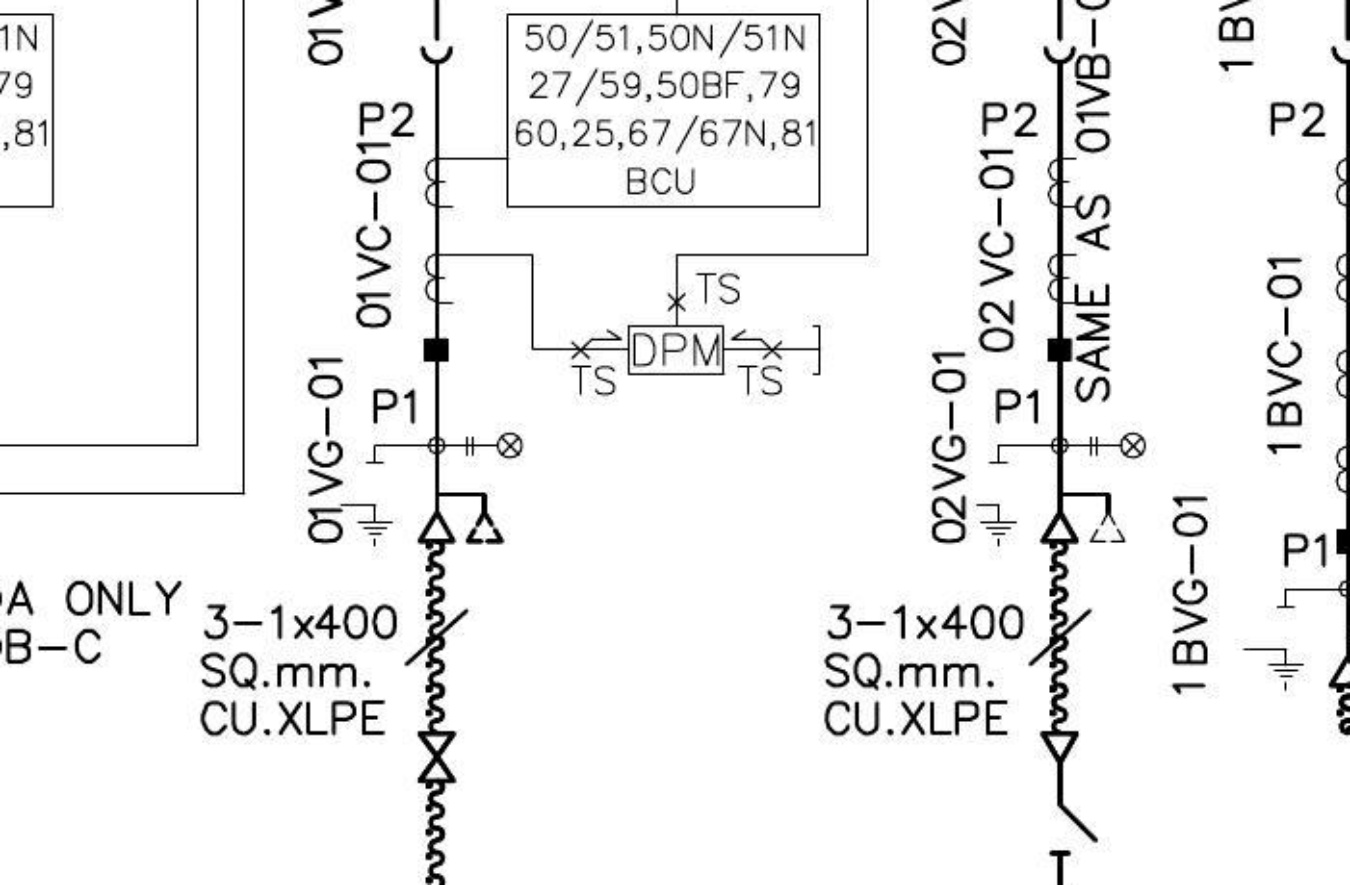22_gs: (1241, 603, 1307, 691), (339, 459, 396, 547), (973, 459, 1019, 547)
22_ll: (464, 431, 524, 460), (1088, 431, 1148, 460)
DPM: (625, 323, 727, 378)
terminator_single: (1038, 729, 1081, 765)
terminator_splicing_kits: (417, 730, 457, 784)
terminator_w_future: (415, 489, 506, 546), (1039, 490, 1129, 546)
